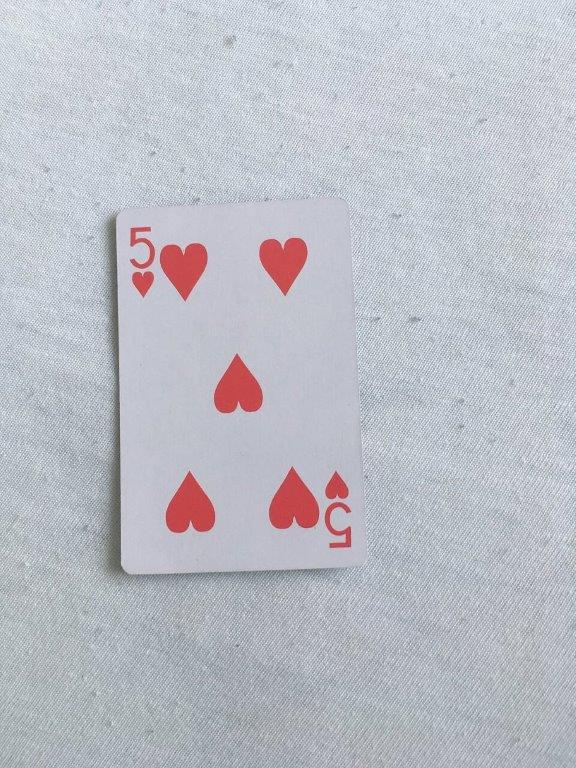5H: (112, 196, 372, 577)
